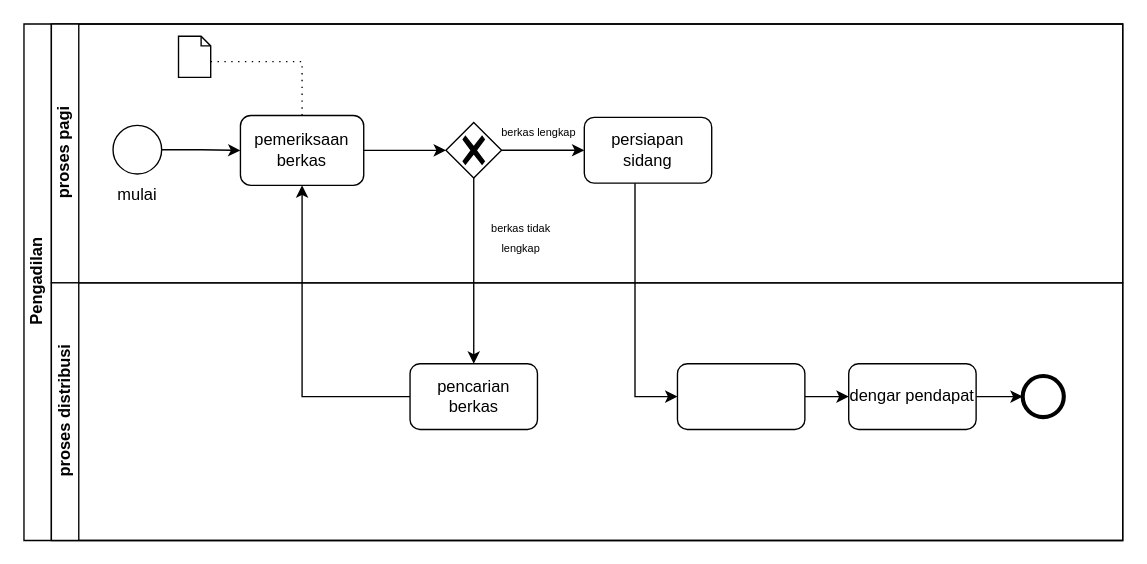
The diagram is 1147 pixels wide and 564 high, and some of its shapes have lost their labels. The centre of each missing label's shape, as x and y in pixels:
berkas pengadilan: the point at 194,56
distribusi daftar hakim: the point at 740,395
end: the point at 1042,396
